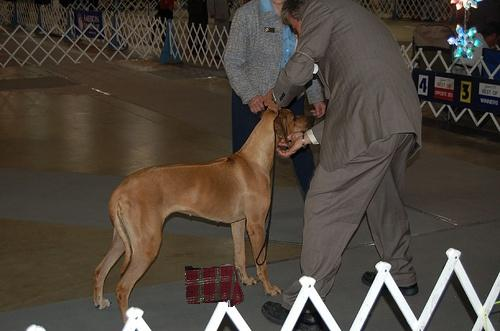tampered: (186, 264, 244, 307)
